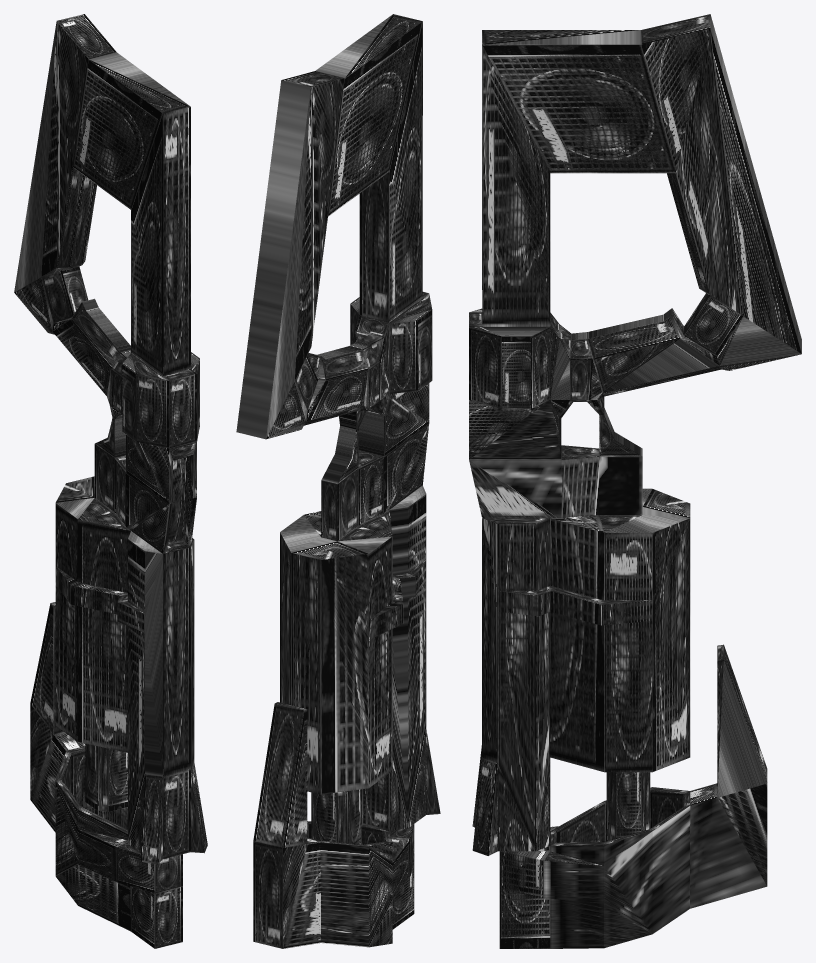
The model's file is lazerrifle_wtf.obj.
3 views of the same model, side by side, from view 1: azimuth 30°, elevation 25°; view 2: azimuth 150°, elevation 25°; view 3: azimuth 270°, elevation 25° (orthographic). The views are drawn at different scales.
Visible parts, largest first — view 1: group2; view 2: group2; view 3: group2.
Boxes of the visible parts, box(x1,y1,x2,y2) form: group2: box(14, 14, 207, 948); group2: box(236, 14, 440, 948); group2: box(469, 14, 801, 948).
Bounding box in the file's own units: 82.04 × 660 × 216.
